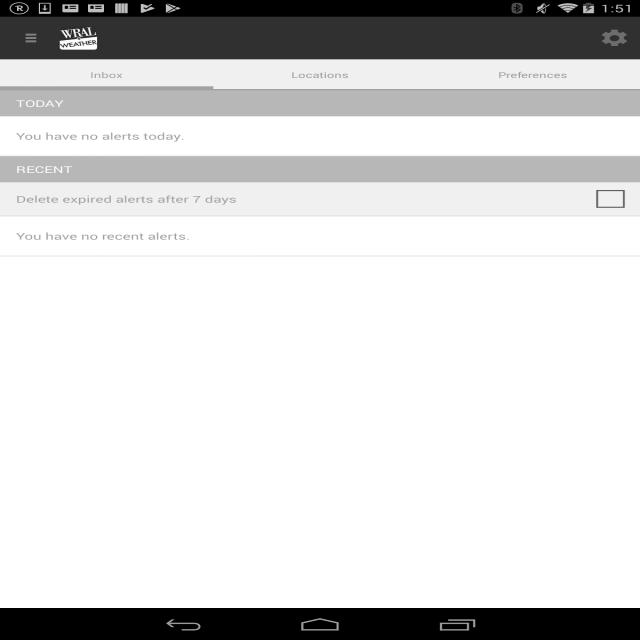CheckBox: (596, 190, 630, 208)
ImageButton: (0, 19, 60, 57)
ImageView: (60, 26, 97, 50)
TextView: (0, 116, 640, 156), (0, 216, 640, 256), (0, 90, 640, 116), (0, 156, 640, 182), (0, 192, 596, 205), (589, 22, 640, 54), (498, 70, 568, 80), (291, 70, 349, 80), (90, 70, 123, 80)
